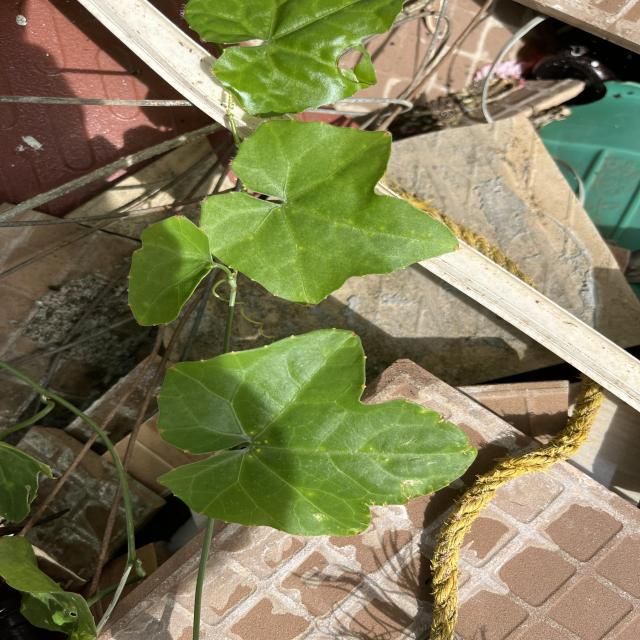Coccinia grandis: (151, 322, 490, 540), (193, 111, 465, 312)
